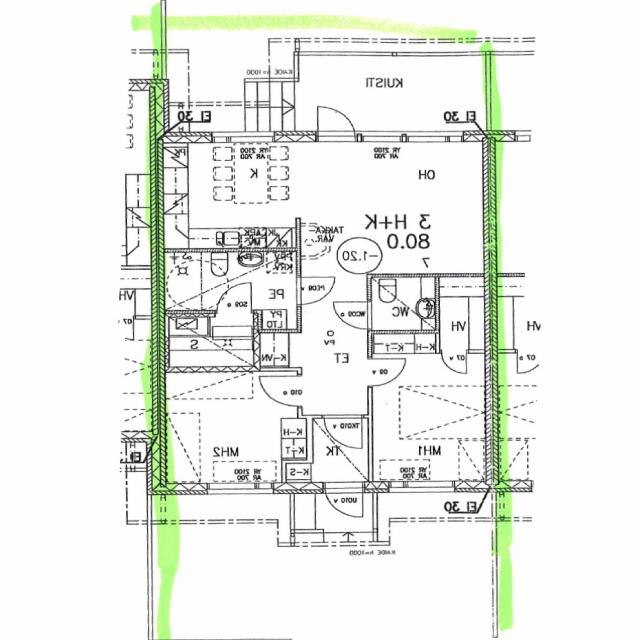door: (318, 101, 355, 142), (326, 481, 363, 522), (258, 376, 300, 406), (217, 282, 252, 317), (325, 415, 362, 448), (334, 301, 373, 329), (296, 277, 335, 304), (368, 359, 406, 386), (442, 350, 466, 373)
